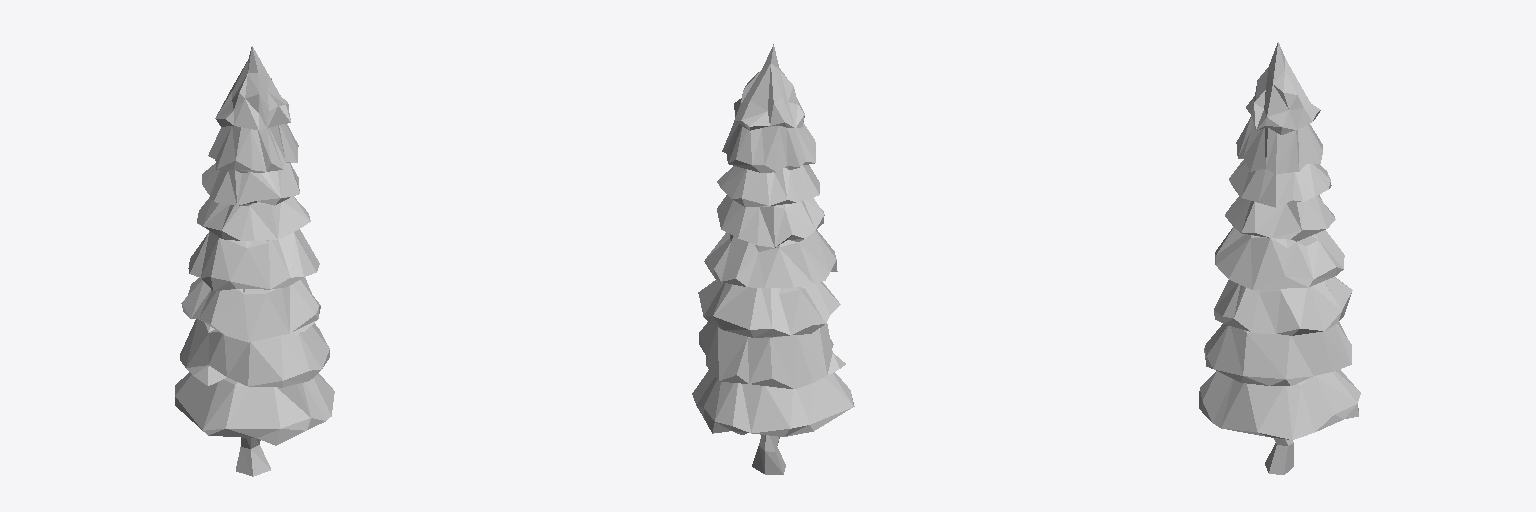
Rendered from tree6.obj.
The picture shows the model from 3 angles: view 1: azimuth 30°, elevation 25°; view 2: azimuth 150°, elevation 25°; view 3: azimuth 270°, elevation 25°; orthographic projection.
Visible parts, largest first — view 1: _2_tree_Cylinder.002; view 2: _2_tree_Cylinder.002; view 3: _2_tree_Cylinder.002.
Boxes of the visible parts, x1=… form: _2_tree_Cylinder.002: x1=175, y1=46, x2=334, y2=476; _2_tree_Cylinder.002: x1=692, y1=44, x2=854, y2=474; _2_tree_Cylinder.002: x1=1199, y1=42, x2=1360, y2=474.
Size of the model in its own units: 0.8524 by 2.49 by 0.8631.